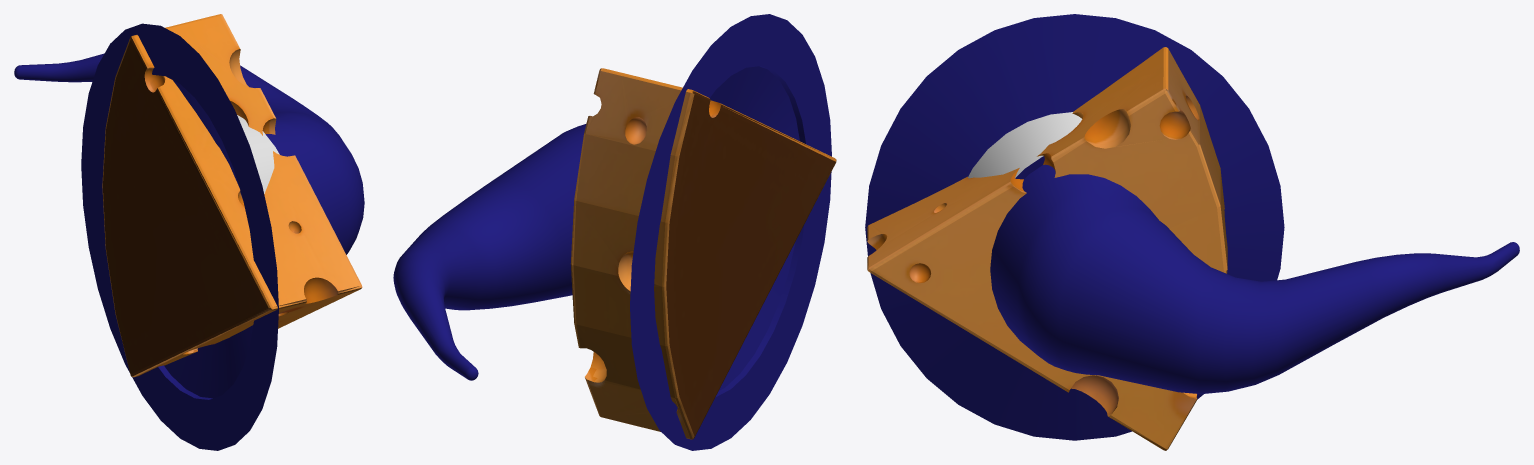
The model's file is WitchyHat2.fbx.
3 views of the same model, side by side, from view 1: azimuth 30°, elevation 25°; view 2: azimuth 150°, elevation 25°; view 3: azimuth 270°, elevation 25° (orthographic). The views are drawn at different scales.
Visible parts, largest first — view 1: Circle.001, Circle; view 2: Circle.001, Circle; view 3: Circle, Circle.001.
Part boxes in pixels (x1=…): Circle.001: x1=102, y1=14, x2=362, y2=377; Circle: x1=14, y1=23, x2=364, y2=450; Circle.001: x1=570, y1=68, x2=836, y2=439; Circle: x1=393, y1=14, x2=831, y2=450; Circle: x1=865, y1=14, x2=1519, y2=440; Circle.001: x1=867, y1=47, x2=1227, y2=450.
Size of the model in its own units: 0.1963 by 0.329 by 0.4574.
